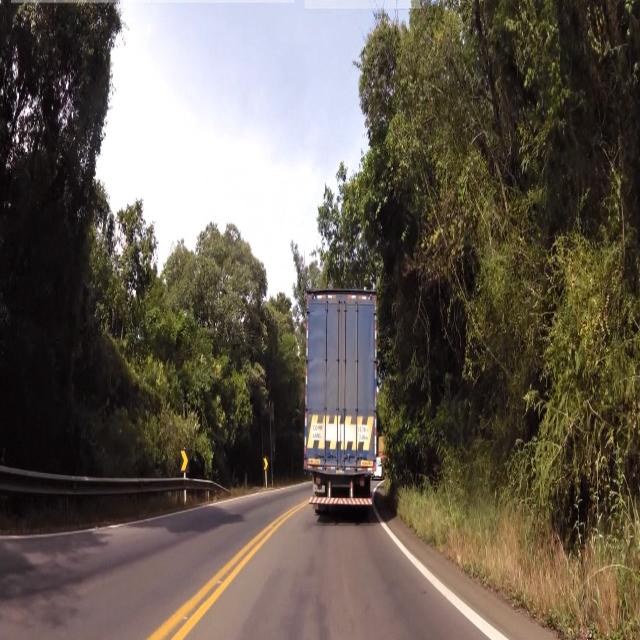Del: (178, 444, 192, 476)
